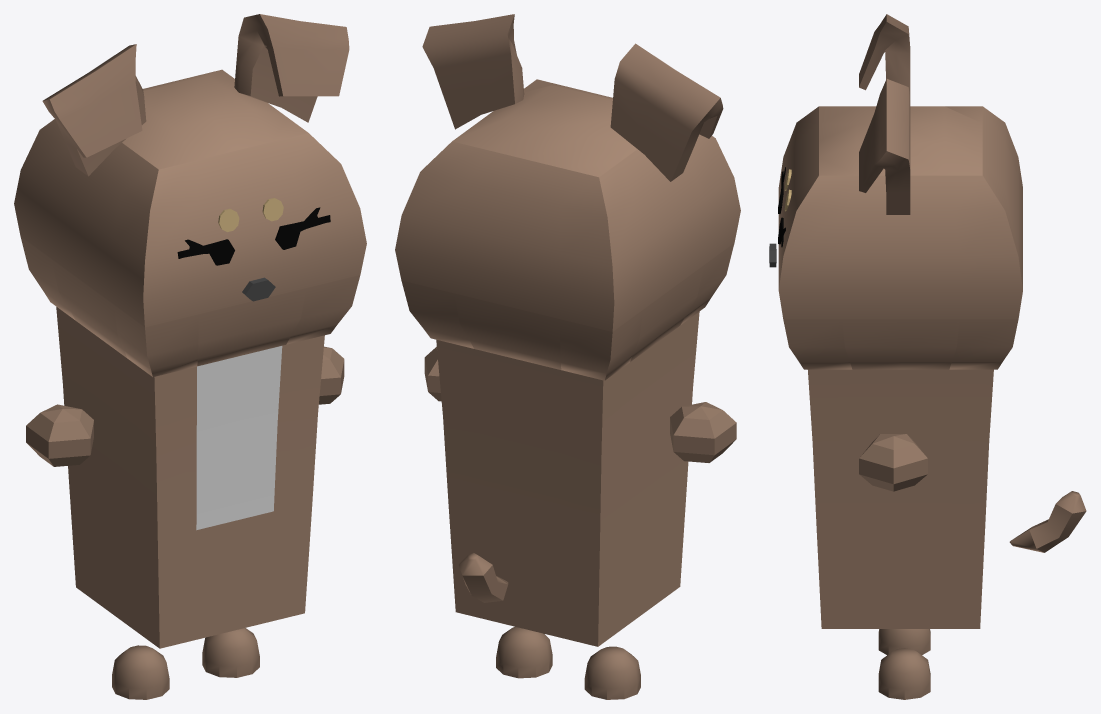
Rendered from Galgo Español.fbx.
3 views of the same model, side by side, from view 1: azimuth 30°, elevation 25°; view 2: azimuth 150°, elevation 25°; view 3: azimuth 270°, elevation 25° (orthographic). The views are drawn at different scales.
Visible parts, largest first — view 1: Body, L_Ear, R_Ear, L_Hand, R_Leg, L_Leg, R_Hand, L_Eye, R_Eye; view 2: Body, R_Ear, L_Ear, L_Hand, R_Leg, L_Leg, Cola, R_Hand; view 3: Body, L_Ear, R_Hand, R_Ear, L_Leg, Cola, R_Leg.
Boxes of the visible parts, box(x1,y1,x2,y2) form: Body: box(14, 69, 366, 648); L_Ear: box(234, 14, 349, 122); R_Ear: box(42, 44, 146, 176); L_Hand: box(26, 404, 93, 466); R_Leg: box(112, 645, 169, 699); L_Leg: box(202, 628, 259, 677); R_Hand: box(319, 346, 344, 404); L_Eye: box(275, 207, 330, 249); R_Eye: box(177, 239, 234, 265); Body: box(395, 79, 740, 646); R_Ear: box(610, 43, 723, 181); L_Ear: box(422, 14, 524, 129); L_Hand: box(670, 402, 736, 462); R_Leg: box(584, 646, 640, 699); L_Leg: box(496, 626, 552, 678); Cola: box(459, 553, 508, 602); R_Hand: box(424, 346, 441, 401); Body: box(778, 106, 1022, 628); L_Ear: box(859, 79, 910, 214); R_Hand: box(859, 434, 927, 491); R_Ear: box(859, 14, 910, 99); L_Leg: box(878, 648, 930, 699); Cola: box(1009, 491, 1086, 552); R_Leg: box(878, 629, 930, 655).
Size of the model in its own units: 1.44 by 2.93 by 1.36.
